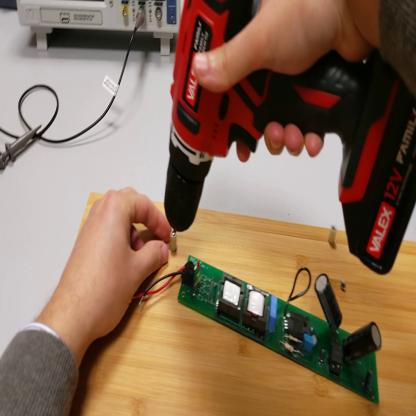electric screwdriver: (164, 2, 415, 276)
hand: (189, 1, 377, 160), (63, 187, 176, 342)
high voltage board: (133, 231, 384, 410)
oscilloscope: (17, 3, 185, 59)
oscilloscope probe tip: (2, 116, 45, 171)
working area: (68, 192, 416, 416)
